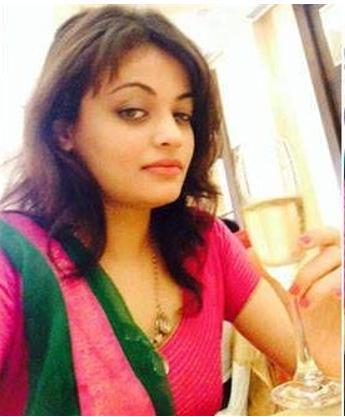Drunk: (89, 47, 196, 205)
